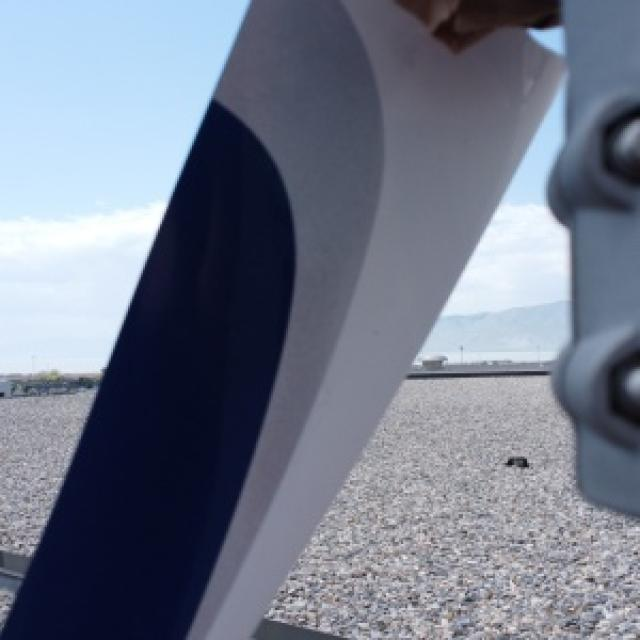healthy: (0, 0, 561, 638)
